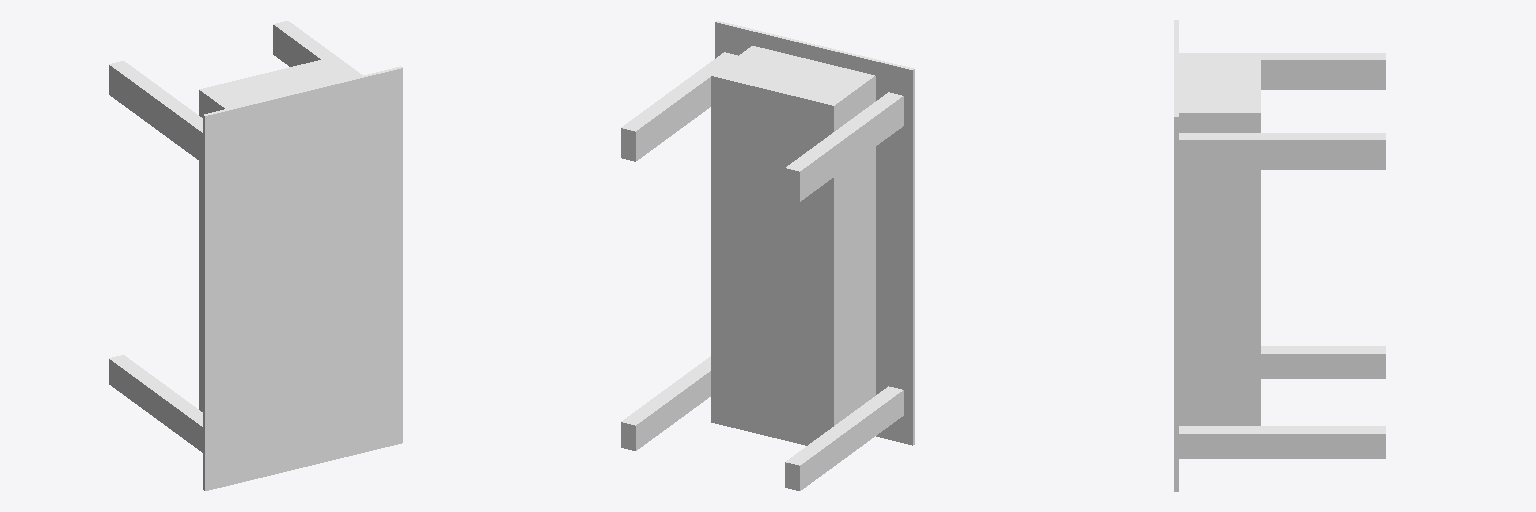
URDF robot description (battery):
<robot
  name="battery">
  <link
    name="battery">
    <inertial>
      <origin
        xyz="0 0 0"
        rpy="0 0 0" />
      <mass
        value="0.5173" />
      <inertia
        ixx="0.00160244526592418"
        ixy="9.01294654865895E-21"
        ixz="1.54479688054531E-20"
        iyy="0.000407370774091244"
        iyz="6.59126027238814E-06"
        izz="0.00173928623919951" />
    </inertial>
    <visual>
      <origin
        xyz="1.5707963267949 0 0"
        rpy="0 0 0" />
      <geometry>
        <mesh
          filename="package://qfy_dynamixel_description/battery/meshes/battery.stl" />
      </geometry>
      <material
        name="">
        <color
          rgba="1 1 1 1" />
      </material>
    </visual>
    <collision>
      <origin
        xyz="0 0 0"
        rpy="1.5707963267949 0 0" />
      <geometry>
        <mesh
          filename="package://qfy_dynamixel_description/battery/meshes/battery.stl" />
      </geometry>
    </collision>
  </link>
</robot>

--- Facts derived from the render (not from the file) ---
The picture shows the robot from 3 angles, left to right: view 1: azimuth 30°, elevation 25°; view 2: azimuth 150°, elevation 25°; view 3: azimuth 270°, elevation 25°; orthographic projection.
Model battery with 1 links and 0 joints (none), rooted at battery, posed all joints at 0.
Visible links, largest first — view 1: battery; view 2: battery; view 3: battery.
Boxes of the visible links, x1=… form: battery: x1=109, y1=21, x2=402, y2=490; battery: x1=621, y1=21, x2=914, y2=490; battery: x1=1174, y1=20, x2=1385, y2=491.
Size in the robot's own frame: 0.1049 by 0.097 by 0.1898 metres.
1 mesh visuals loaded from 1 distinct referenced files (1 binary STL).